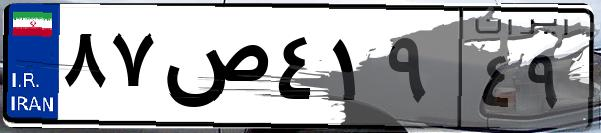1: (330, 28, 385, 110)
4: (270, 28, 330, 110), (475, 38, 525, 113)
7: (110, 28, 158, 98)
8: (57, 26, 110, 100)
9: (385, 28, 445, 110), (525, 38, 570, 115)
ص: (158, 20, 270, 120)
